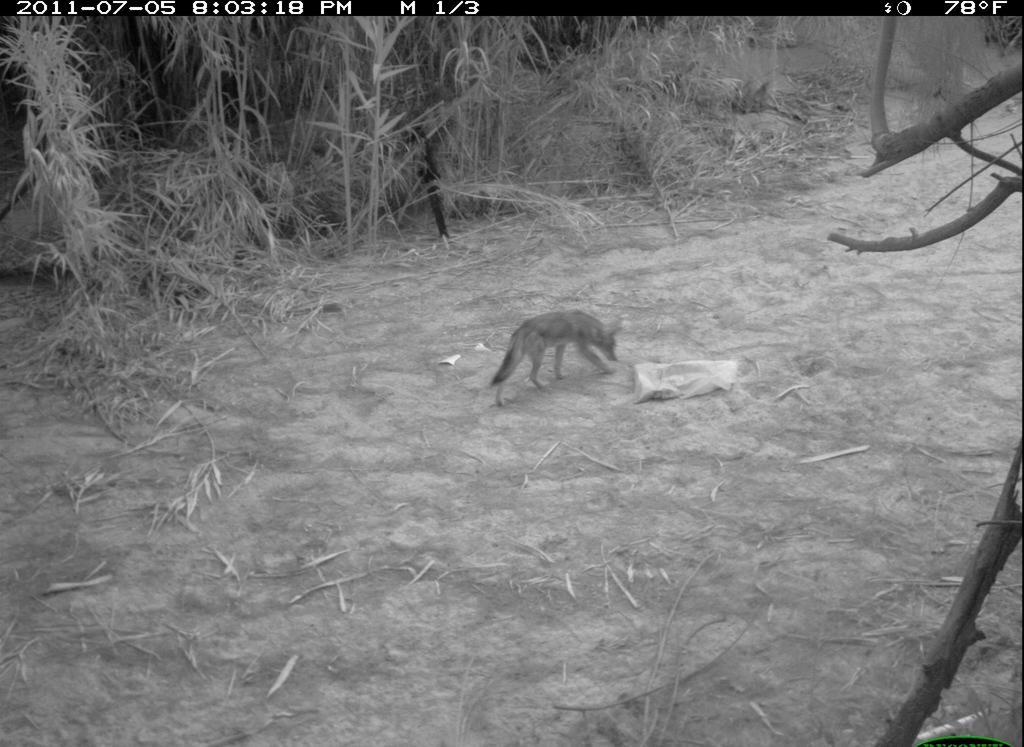coyote: (482, 306, 629, 414)
